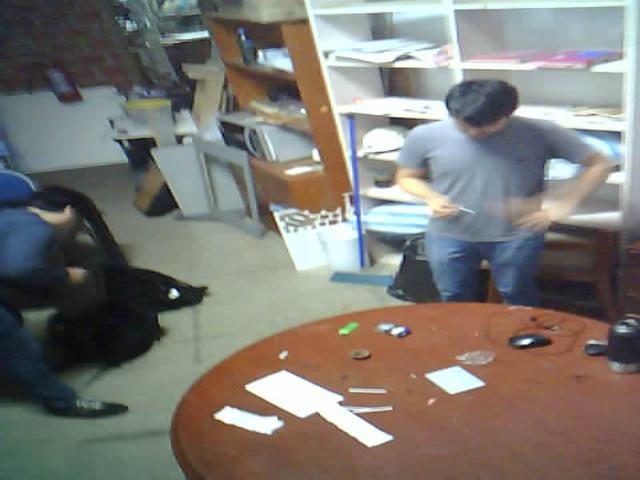person: (384, 39, 616, 323), (0, 144, 142, 432)
